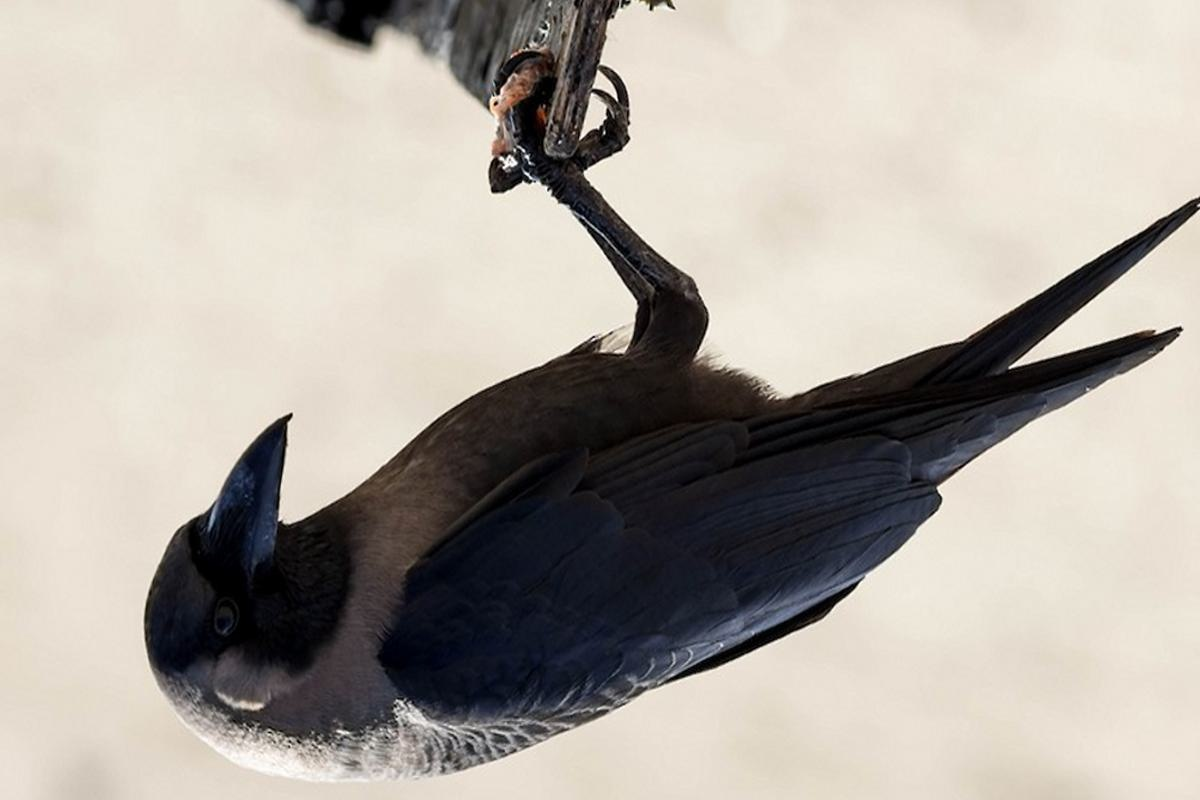crow: (159, 185, 1143, 794)
